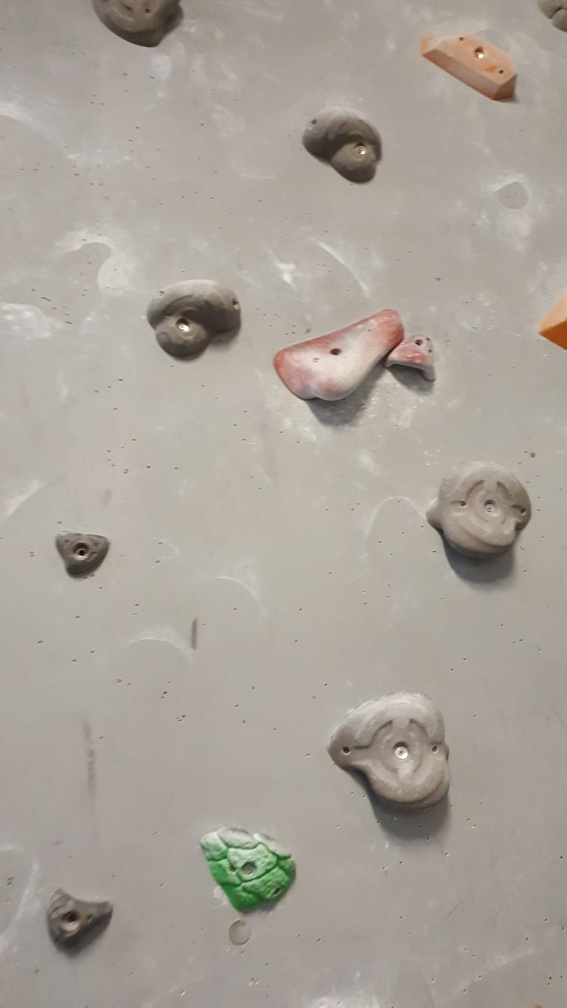Crimp: (51, 528, 115, 578)
Hand Start: (226, 917, 258, 950)
Jug: (323, 689, 454, 814), (419, 453, 534, 566), (148, 278, 240, 359), (303, 104, 384, 186)
Pinch: (419, 31, 521, 105)
